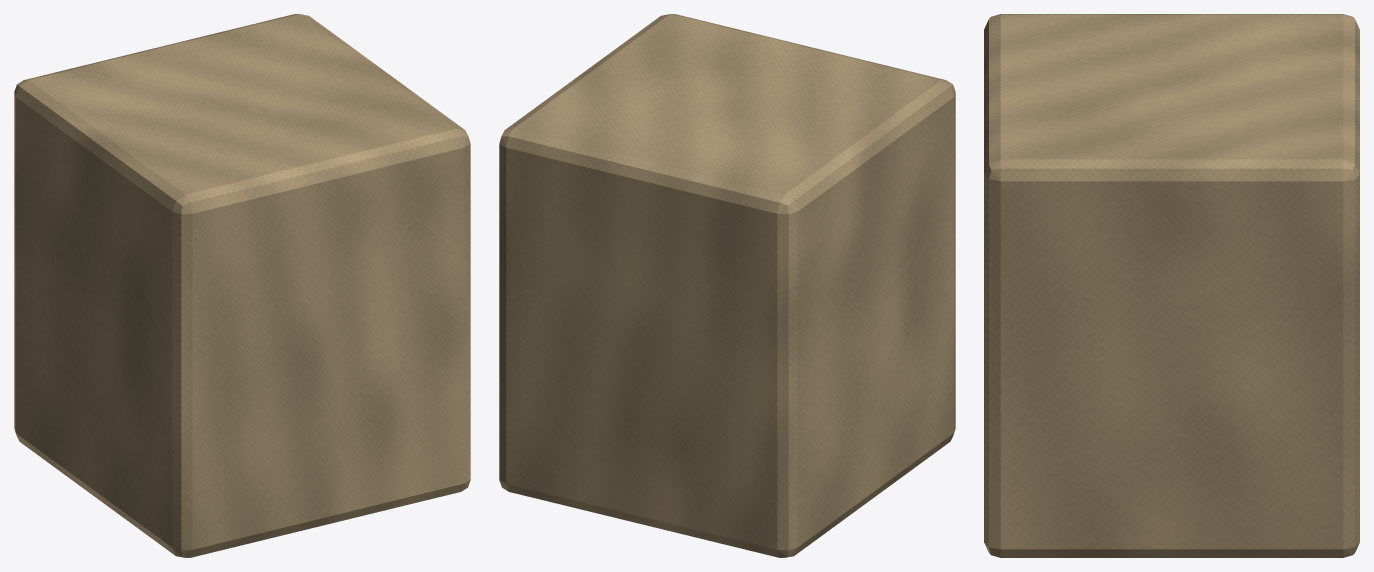
File: LeftUpperArm.fbx
The picture shows the model from 3 angles, left to right: view 1: azimuth 30°, elevation 25°; view 2: azimuth 150°, elevation 25°; view 3: azimuth 270°, elevation 25°; orthographic projection. The views are drawn at different scales.
Visible parts, largest first — view 1: LeftUpperArm; view 2: LeftUpperArm; view 3: LeftUpperArm.
Part boxes in pixels (x1=…): LeftUpperArm: x1=14, y1=14, x2=470, y2=557; LeftUpperArm: x1=499, y1=14, x2=955, y2=557; LeftUpperArm: x1=984, y1=14, x2=1359, y2=557.
Size of the model in its own units: 1 by 1.17 by 1.
1 material, 1 textured.
